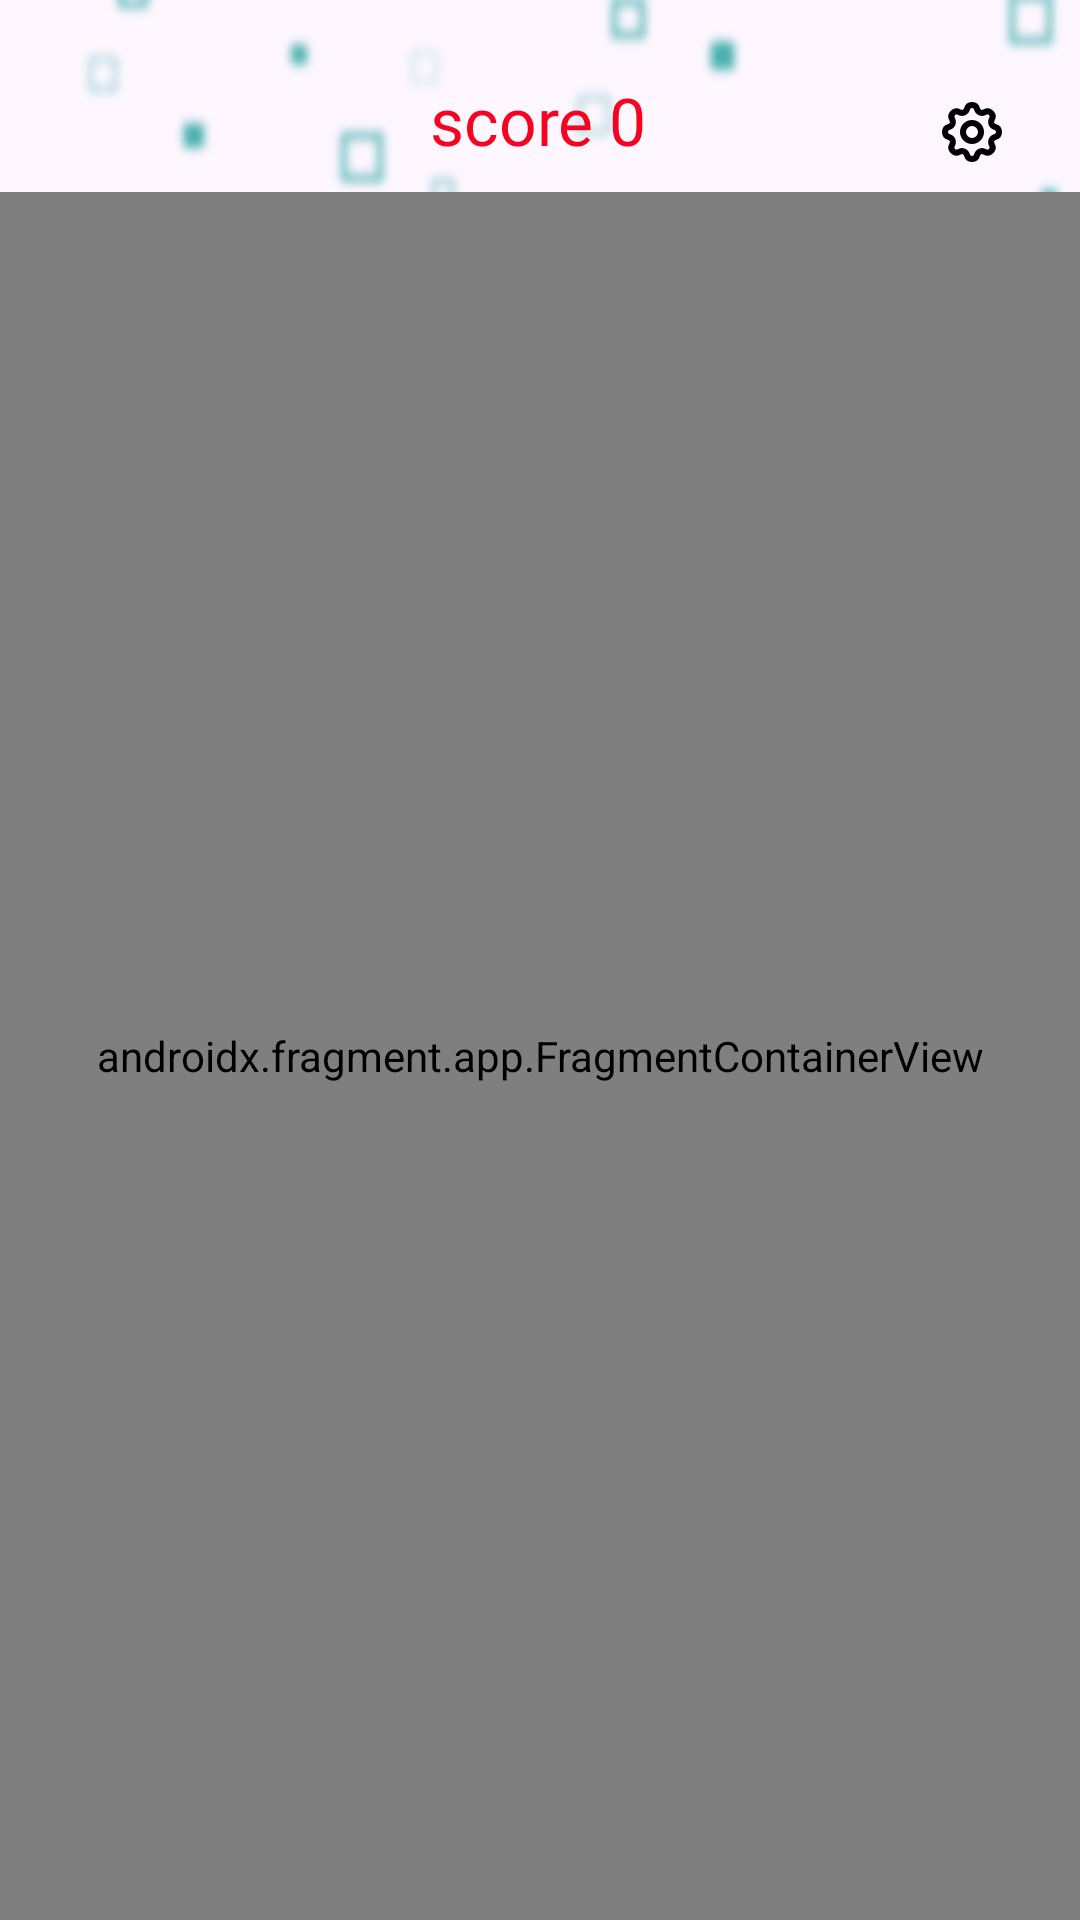

Icons on this 1080w x 1920h Android screen, each with the point to tap as [x,y]:
settings: [972,132]
